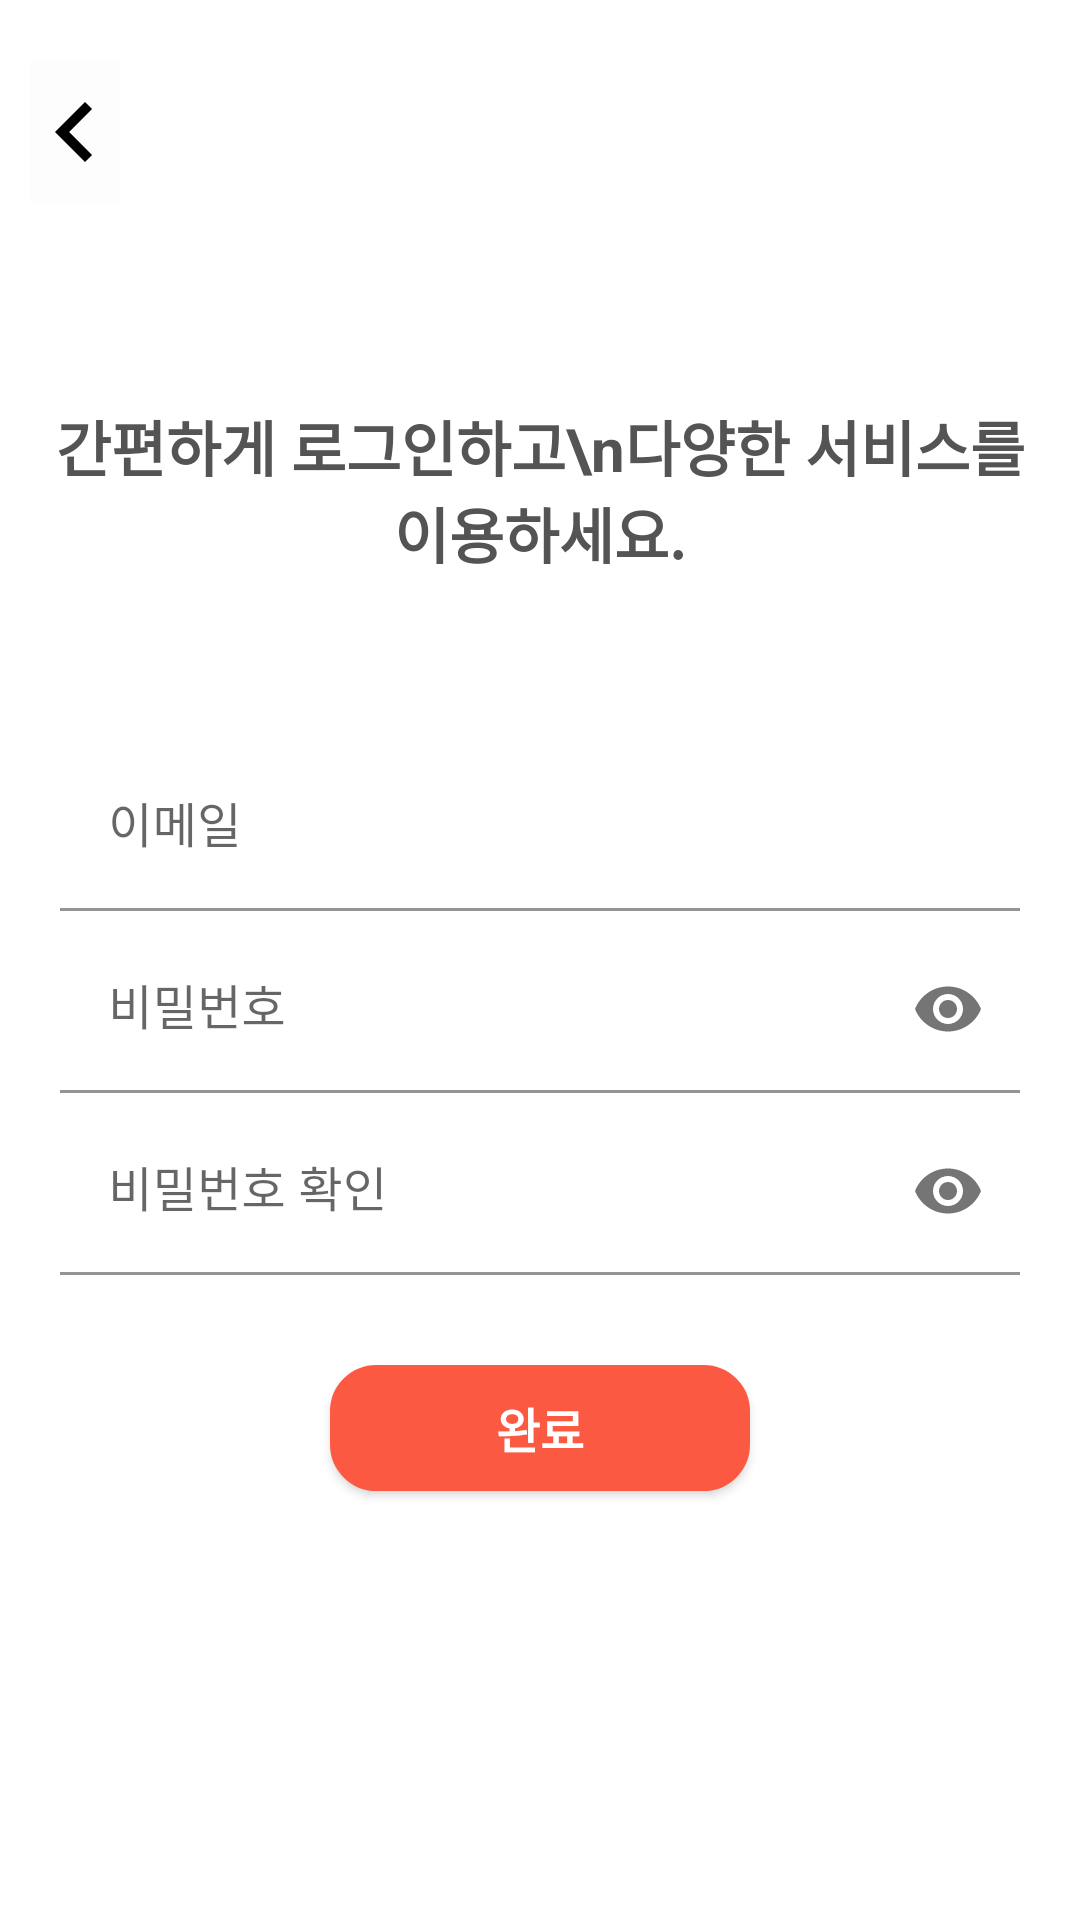

Named icons in this screenshot (1080w x 1920h) and their bounding boxes, (x1, y1, x2, y2):
navigate before: (55, 102, 92, 162)
